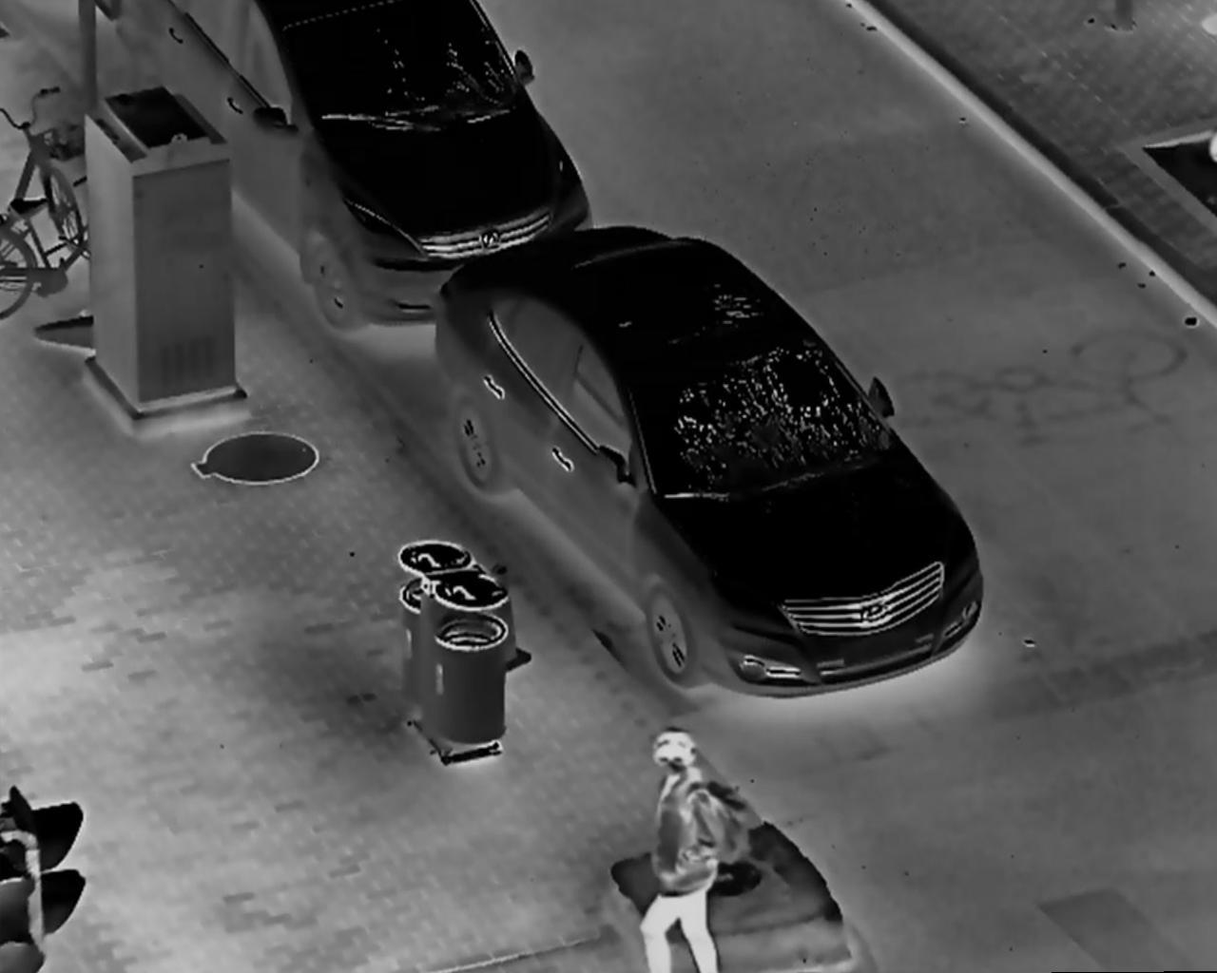person: (631, 722, 749, 973)
